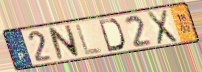2: (124, 14, 154, 49), (28, 29, 54, 63)
D: (97, 17, 126, 53)
L: (74, 22, 104, 57)
N: (47, 24, 82, 61)
X: (145, 8, 179, 47)
